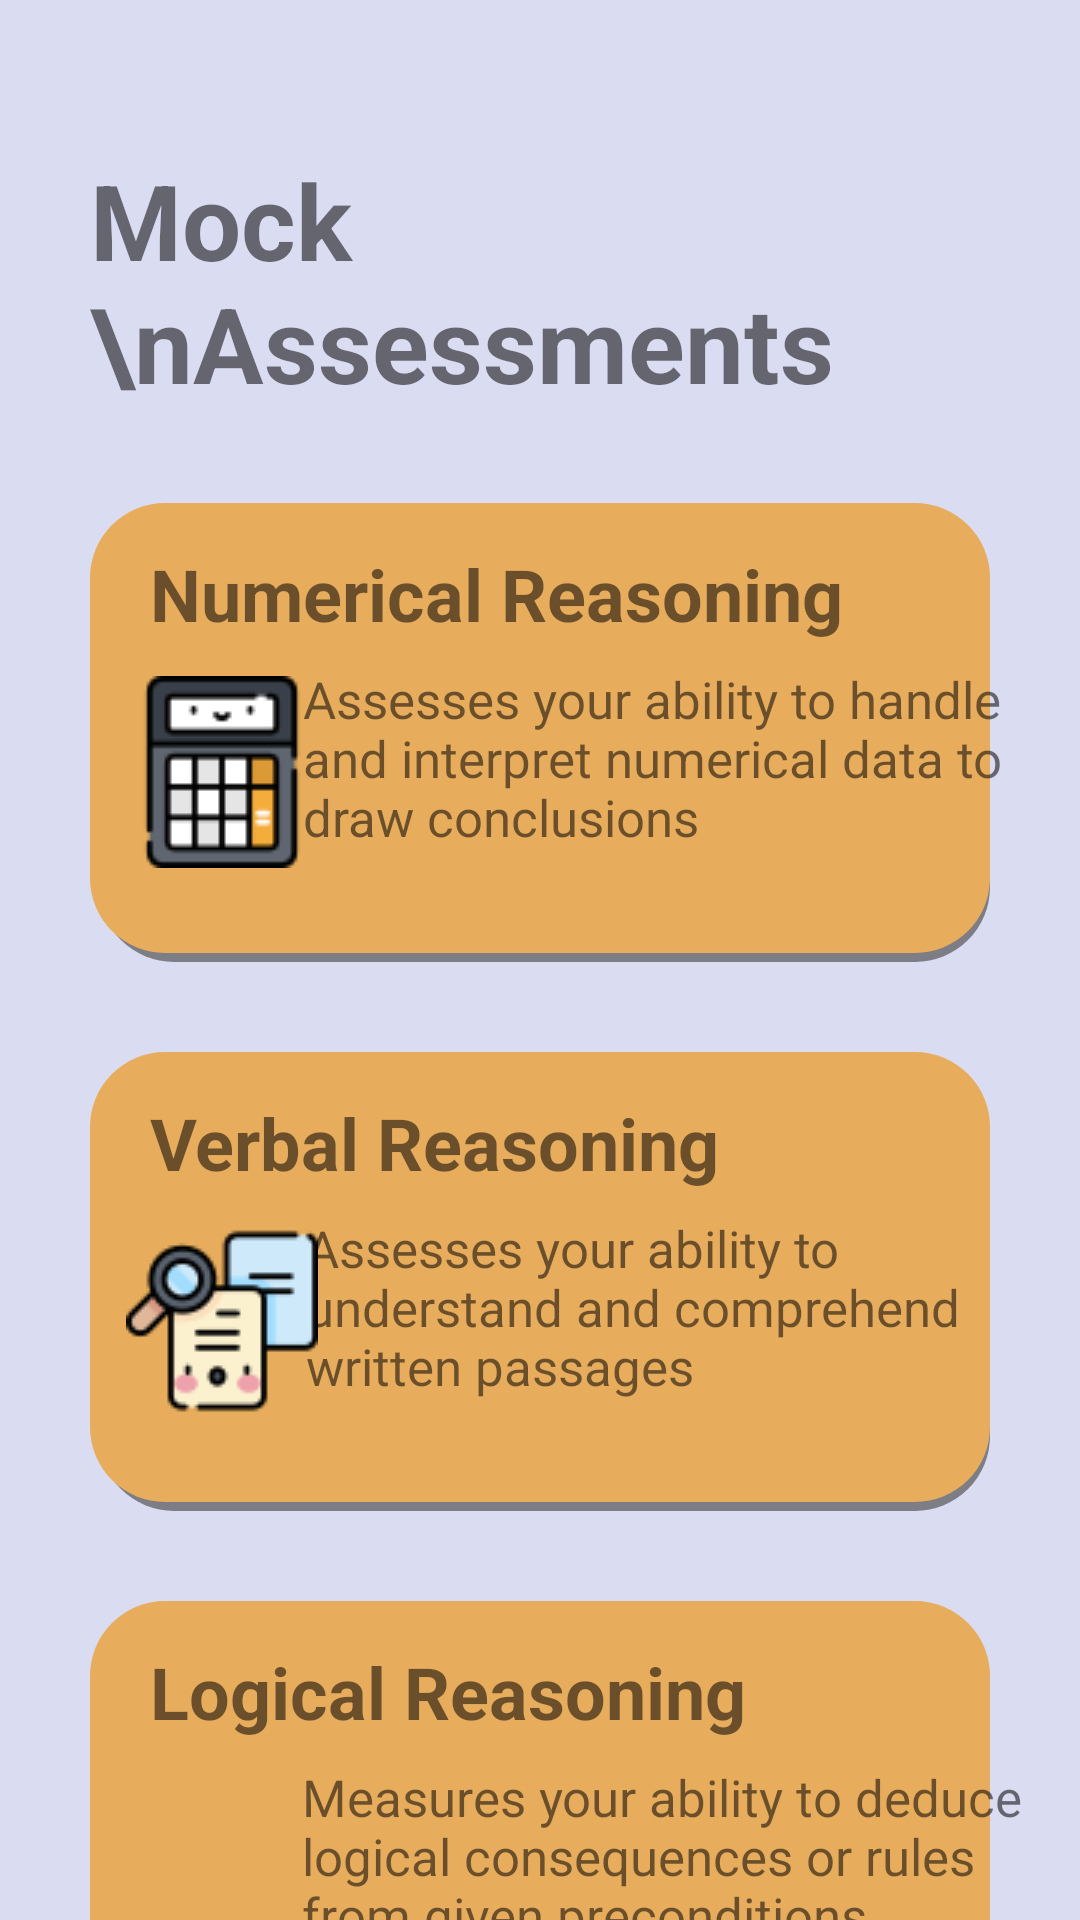

Icon click points for this 1080 x 1920 phone screenshot, format (x,y):
numericalmock: (222,772)
verbalmock: (222,1321)
